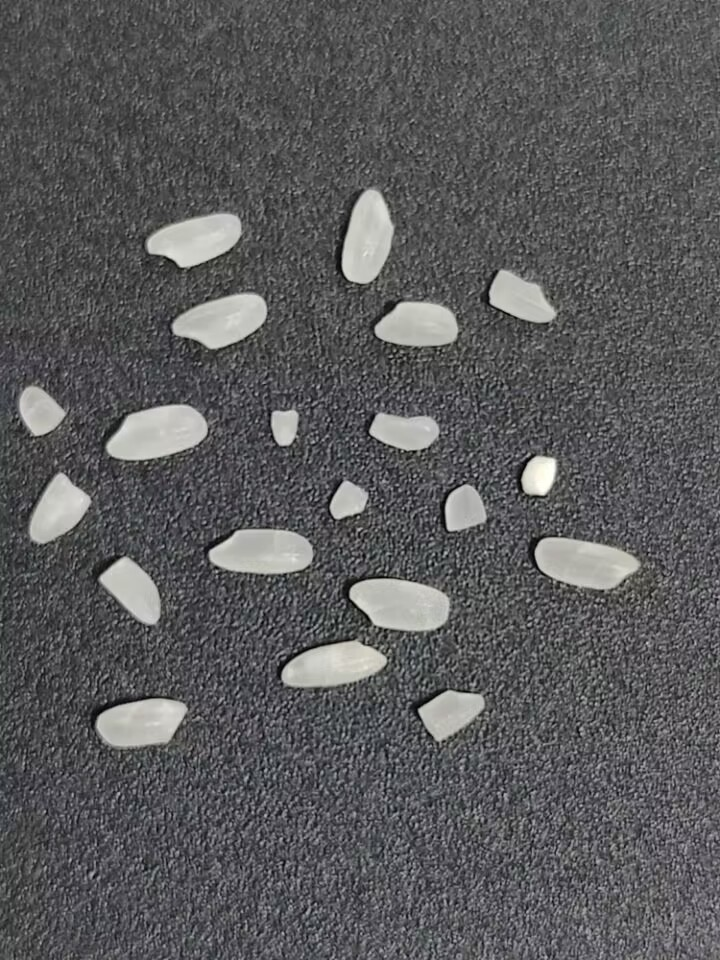broken: (92, 555, 165, 627), (26, 468, 93, 545), (486, 269, 558, 324), (418, 688, 486, 742), (369, 407, 440, 452), (17, 384, 68, 436), (440, 483, 486, 536), (518, 453, 561, 501), (267, 402, 305, 456), (327, 478, 370, 519)
rice: (198, 522, 327, 578), (532, 534, 640, 590), (104, 404, 205, 462), (145, 212, 244, 269), (170, 294, 268, 351), (348, 578, 451, 632), (337, 188, 395, 283), (277, 639, 388, 688), (95, 696, 188, 748), (370, 299, 458, 348)
